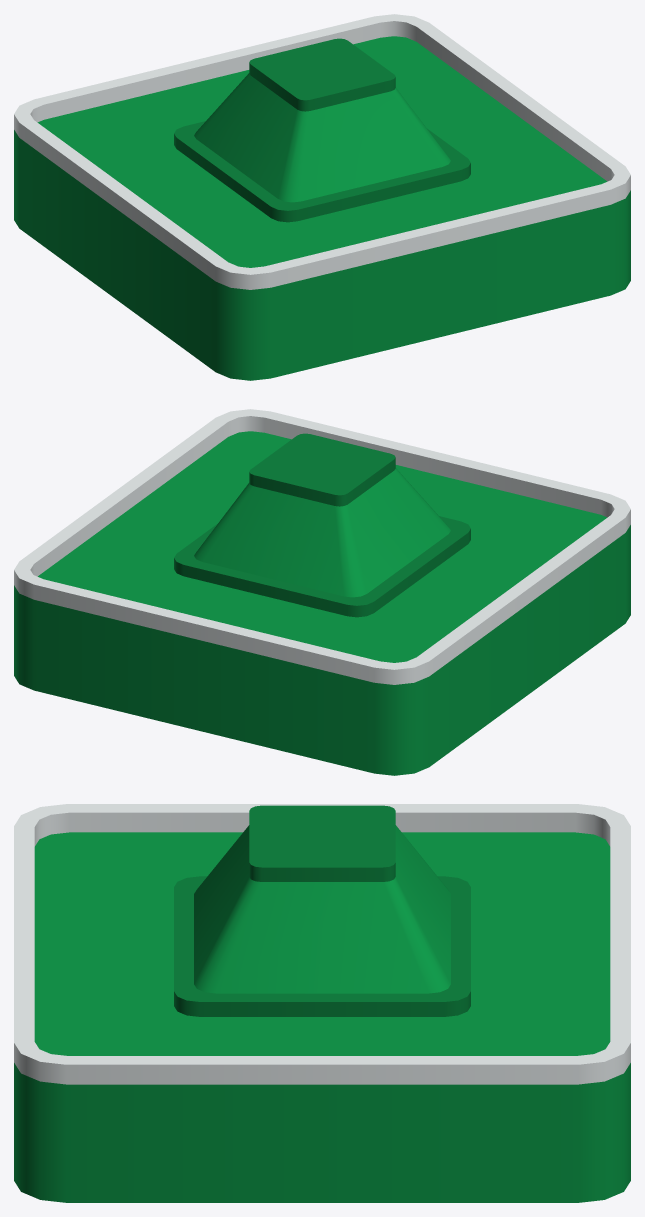
Rendered from shelf_3.fbx.
The picture shows the model from 3 angles, top to bottom: view 1: azimuth 30°, elevation 25°; view 2: azimuth 150°, elevation 25°; view 3: azimuth 270°, elevation 25°; orthographic projection. The views are drawn at different scales.
Parts seen in each view (by area): view 1: shelf_3; view 2: shelf_3; view 3: shelf_3.
Part boxes in pixels (box(x1,y1,x2,y2)): shelf_3: box(14, 14, 630, 380); shelf_3: box(14, 409, 630, 775); shelf_3: box(14, 804, 630, 1202).
Bounding box in the file's own units: 244 × 103 × 244.
